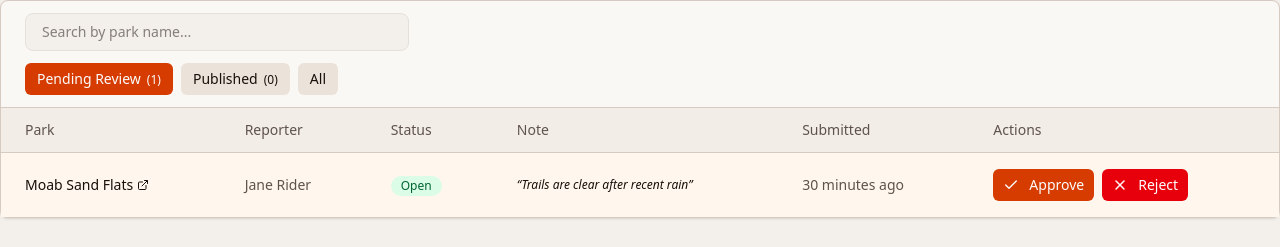
Test: ConditionModerationTable › shows empty state when no conditions match search
The width and height of the screenshot is (1280, 247).
In the field with placeholder "Search by park name...": (217, 32) [25,13,409,51], type "nonexistent park"
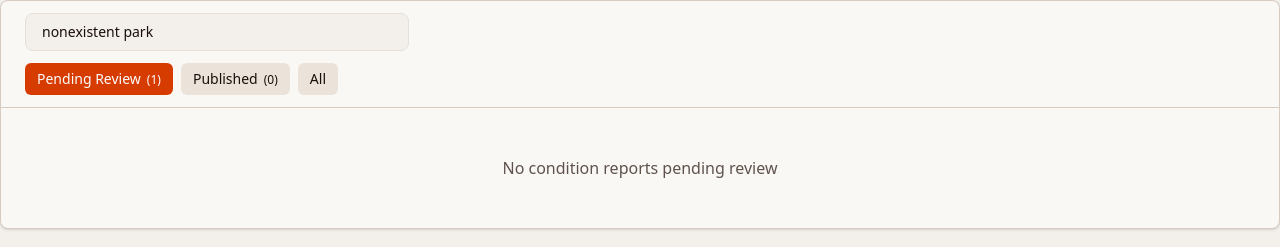
Now the text "No condition reports pending review" is shown, box [502,157,778,179]
